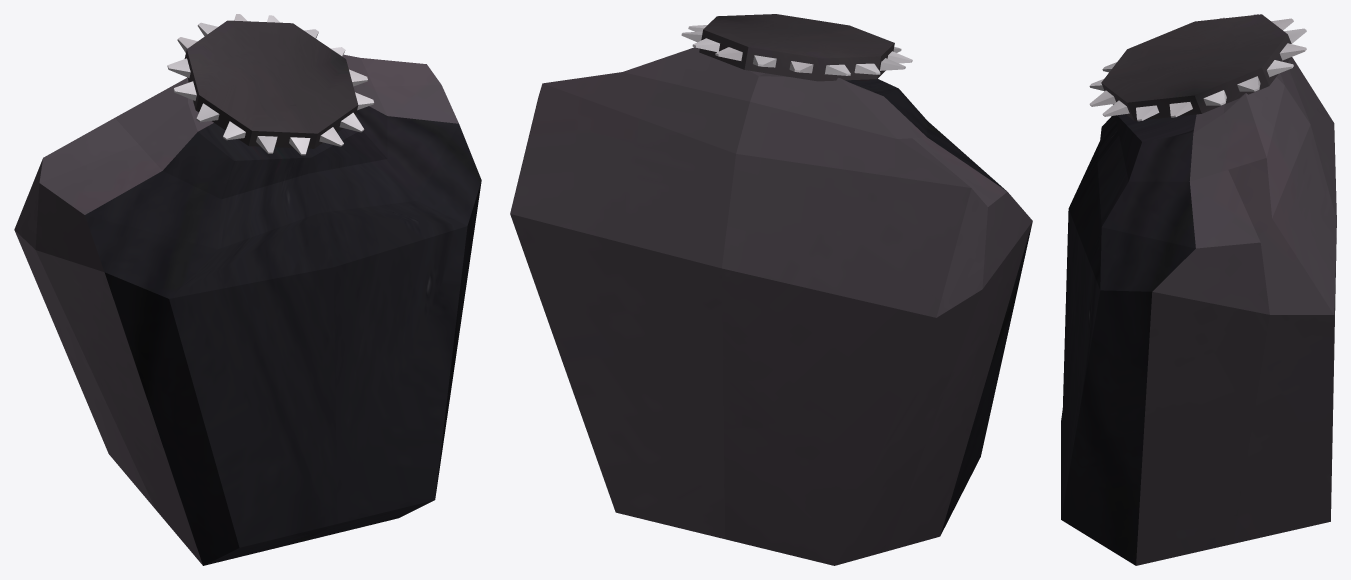
The model's file is Emo.fbx.
The picture shows the model from 3 angles, left to right: view 1: azimuth 30°, elevation 25°; view 2: azimuth 150°, elevation 25°; view 3: azimuth 270°, elevation 25°; orthographic projection. The views are drawn at different scales.
Parts seen in each view (by area): view 1: Shirt; view 2: Shirt; view 3: Shirt.
Part boxes in pixels (box(x1,y1,x2,y2)): Shirt: box(14, 14, 481, 565); Shirt: box(510, 14, 1032, 565); Shirt: box(1061, 14, 1336, 565).
Size of the model in its own units: 197 by 219 by 113.
